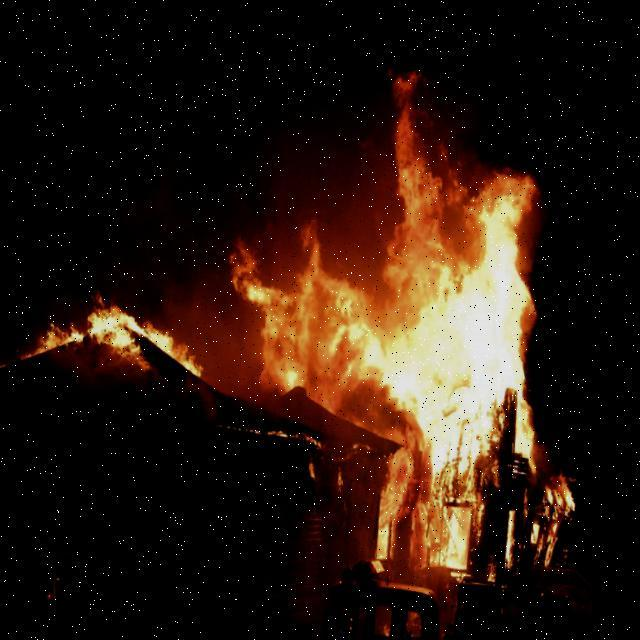Fire: (219, 56, 608, 584), (8, 278, 218, 379)
